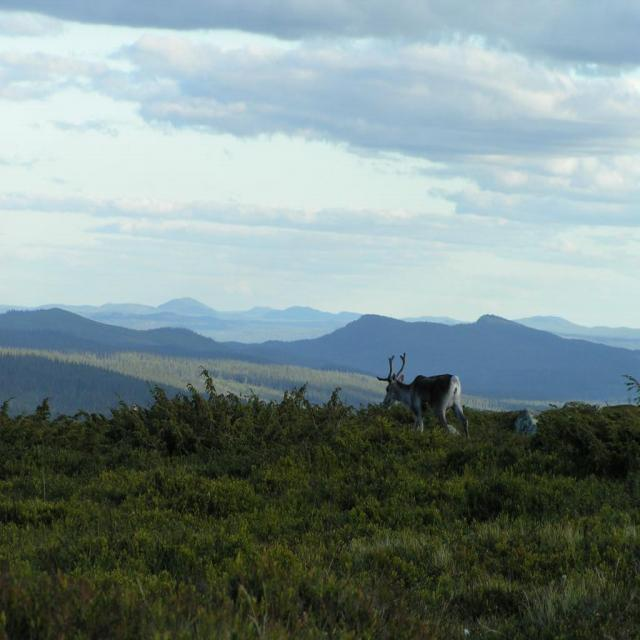Deer: (377, 352, 472, 439)
